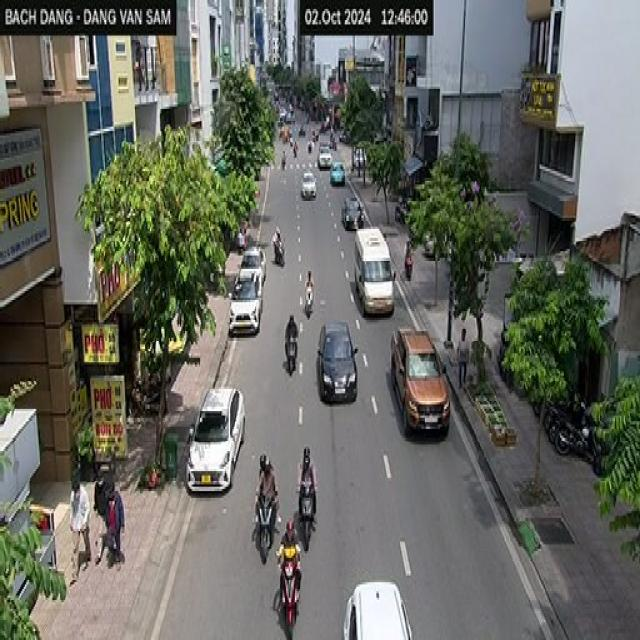car: (390, 326, 450, 436), (185, 387, 245, 493), (342, 580, 412, 638), (316, 320, 358, 402), (230, 256, 259, 344), (242, 241, 263, 286), (340, 195, 364, 229), (318, 143, 330, 185), (300, 171, 316, 198), (329, 160, 345, 184)
motorcycle: (351, 234, 399, 324), (275, 544, 301, 638), (252, 491, 278, 565), (296, 480, 316, 551), (285, 338, 298, 385), (299, 288, 320, 313), (268, 247, 287, 272), (401, 256, 414, 284)
person: (68, 474, 92, 584), (95, 478, 124, 566), (254, 453, 280, 547), (275, 518, 301, 604), (298, 444, 318, 522), (284, 314, 298, 376), (456, 327, 469, 389), (304, 269, 314, 311), (403, 237, 416, 268), (272, 225, 282, 262)
